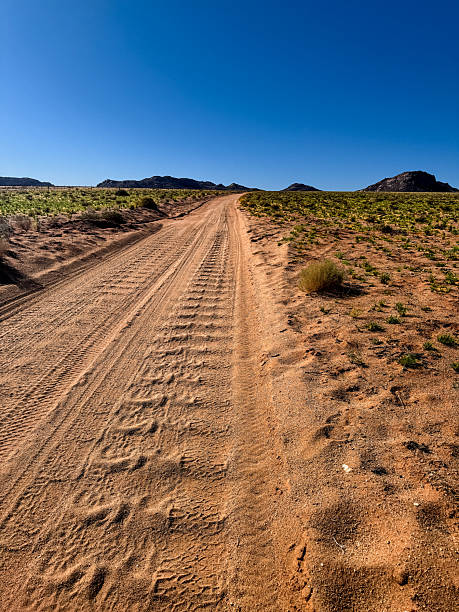vehicle_track: (0, 196, 280, 611), (0, 209, 231, 608), (0, 231, 195, 458), (33, 228, 204, 437), (227, 215, 286, 611), (0, 227, 173, 356), (0, 222, 160, 322)
